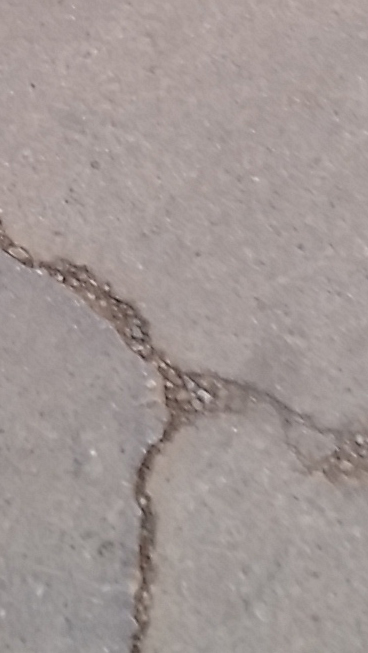A: (4, 213, 326, 652)
